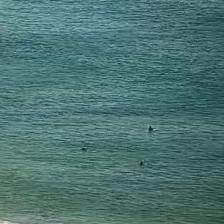surfer: (138, 160, 144, 166), (80, 148, 88, 152), (149, 125, 153, 132)
